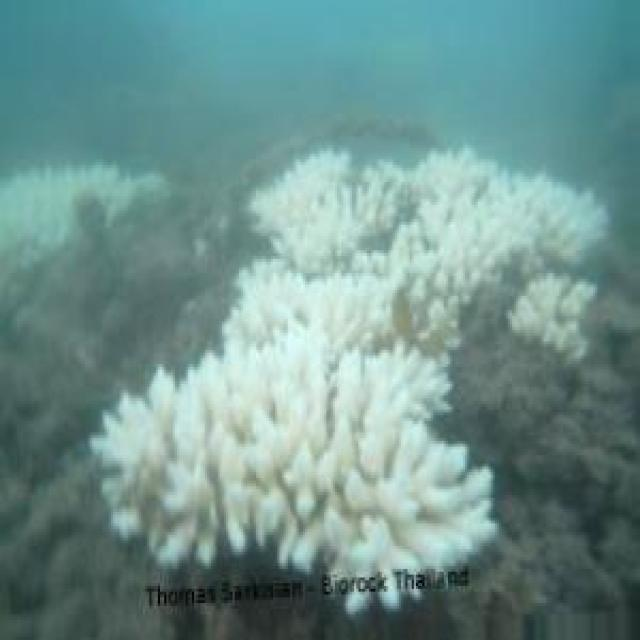bleached coral: (205, 260, 495, 574), (405, 150, 605, 298), (91, 353, 227, 566), (248, 148, 419, 259), (0, 165, 169, 264), (299, 168, 416, 276), (356, 356, 442, 461), (275, 430, 356, 538), (224, 284, 309, 373), (132, 411, 210, 499), (444, 208, 512, 284), (53, 188, 107, 233)
